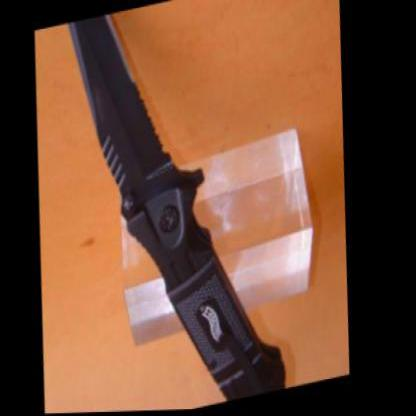knife: (40, 4, 175, 207)
